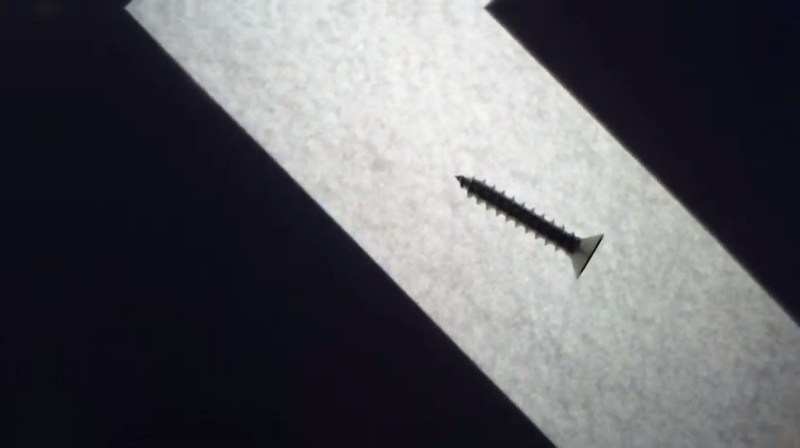S001: (450, 168, 609, 281)
